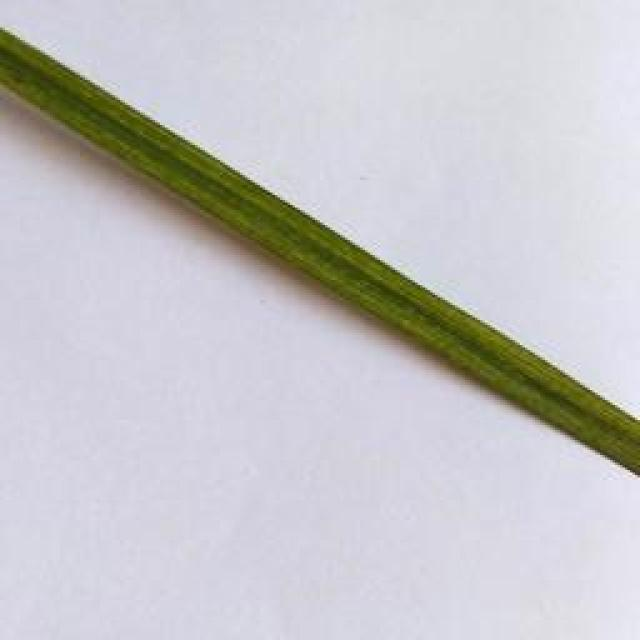Healthy-Plant: (0, 24, 640, 472)
